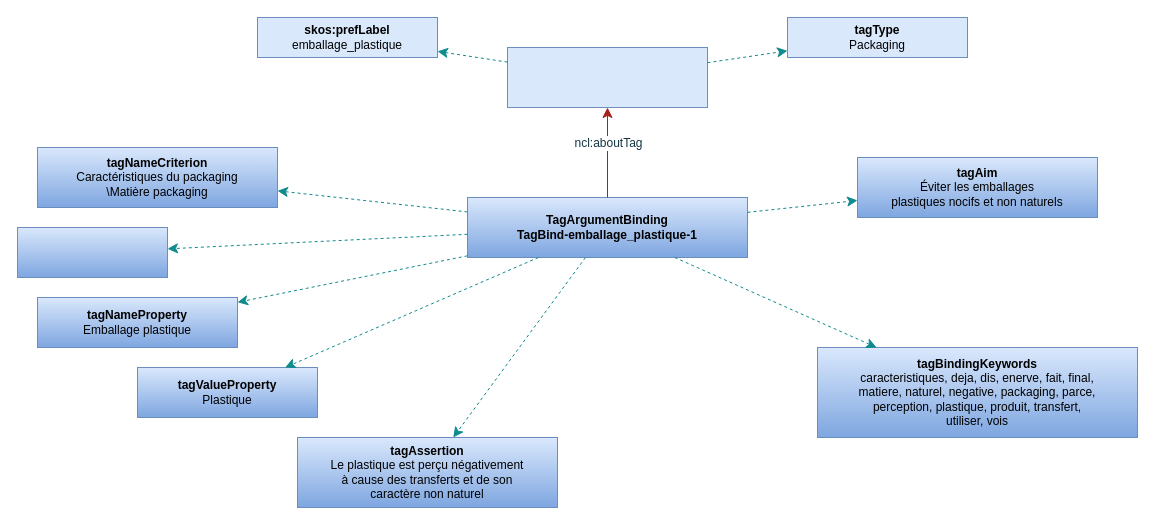
The diagram is 1155 pixels wide and 525 high, and some of its shapes have lost their labels. The box of each missing label's shape, as (x1, y1, x2, y2) in pixels:
Tag emballage_plastique: (506, 46, 708, 108)
tagPolarity -: (16, 226, 168, 278)
